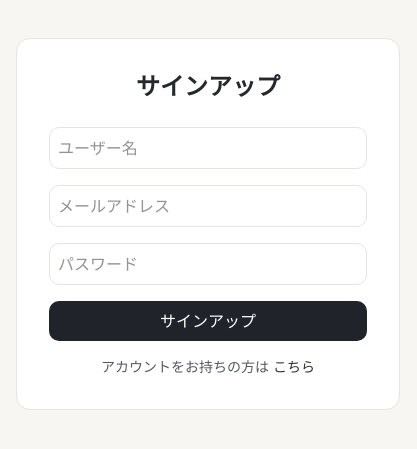
Scenario: SignUpPage › ログインに失敗した時にエラーが出る
Click the button: (208, 321) [49, 301, 367, 341]
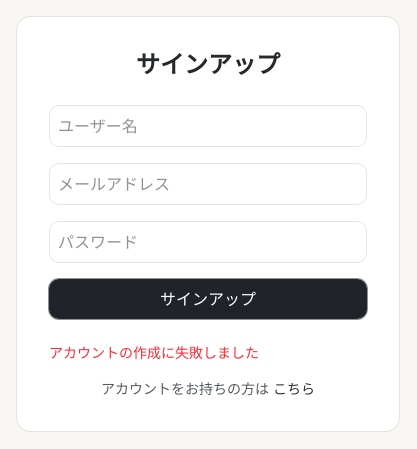
Result: the text "アカウントの作成に失敗しました" is shown at [49, 344, 259, 361]
